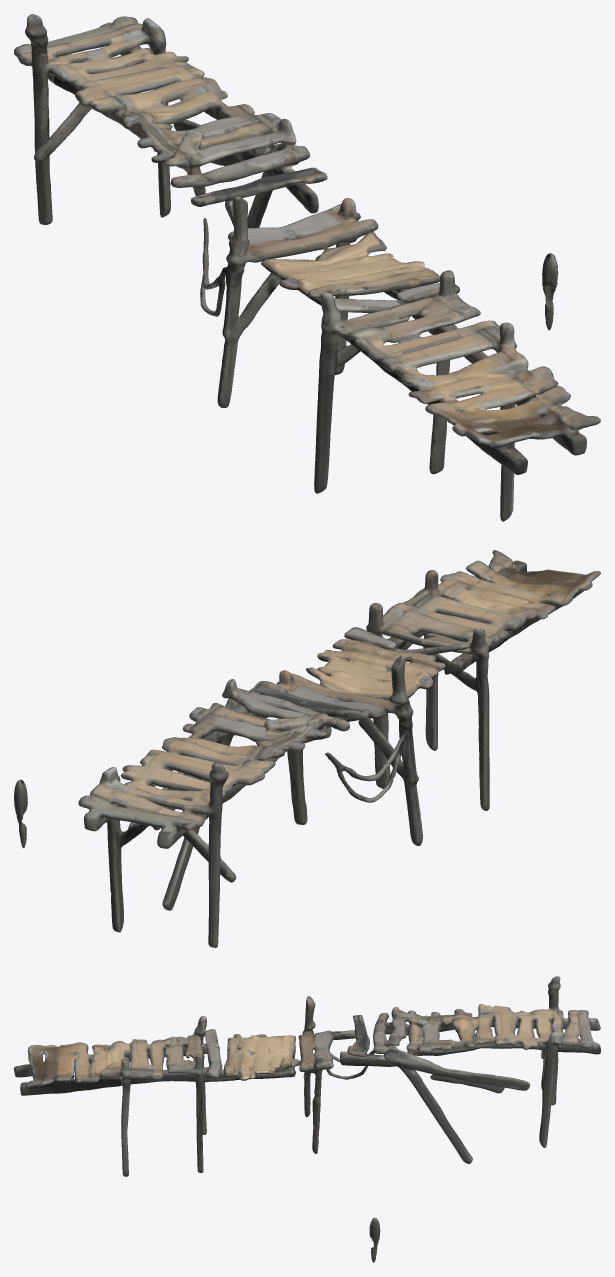
File: Meshy_AI_ponte_rotto_0219072925_texture.glb
3 views of the same model, one above another, from view 1: azimuth 30°, elevation 25°; view 2: azimuth 150°, elevation 25°; view 3: azimuth 270°, elevation 25° (orthographic). The views are drawn at different scales.
Bounding box in the file's own units: 0.9401 × 0.6696 × 2.
Materials: 1 (1 with a texture image).
